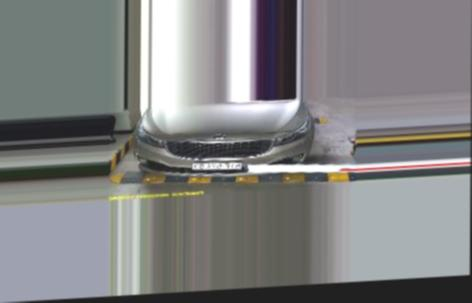License_Plate: (190, 160, 243, 174)
